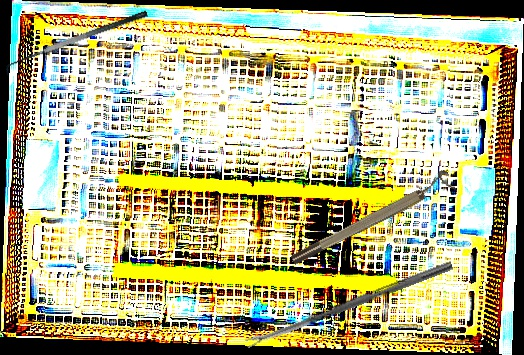Fixation Ring: (285, 168, 457, 268)
Spatula Surgical: (1, 9, 153, 79)
Surgical Spoon: (244, 259, 454, 349)
